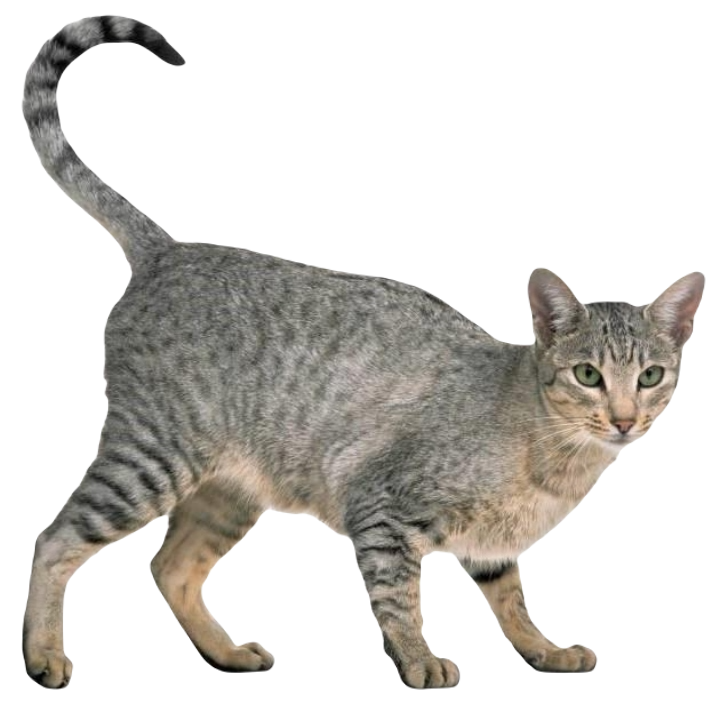Cat: (0, 6, 708, 719)
